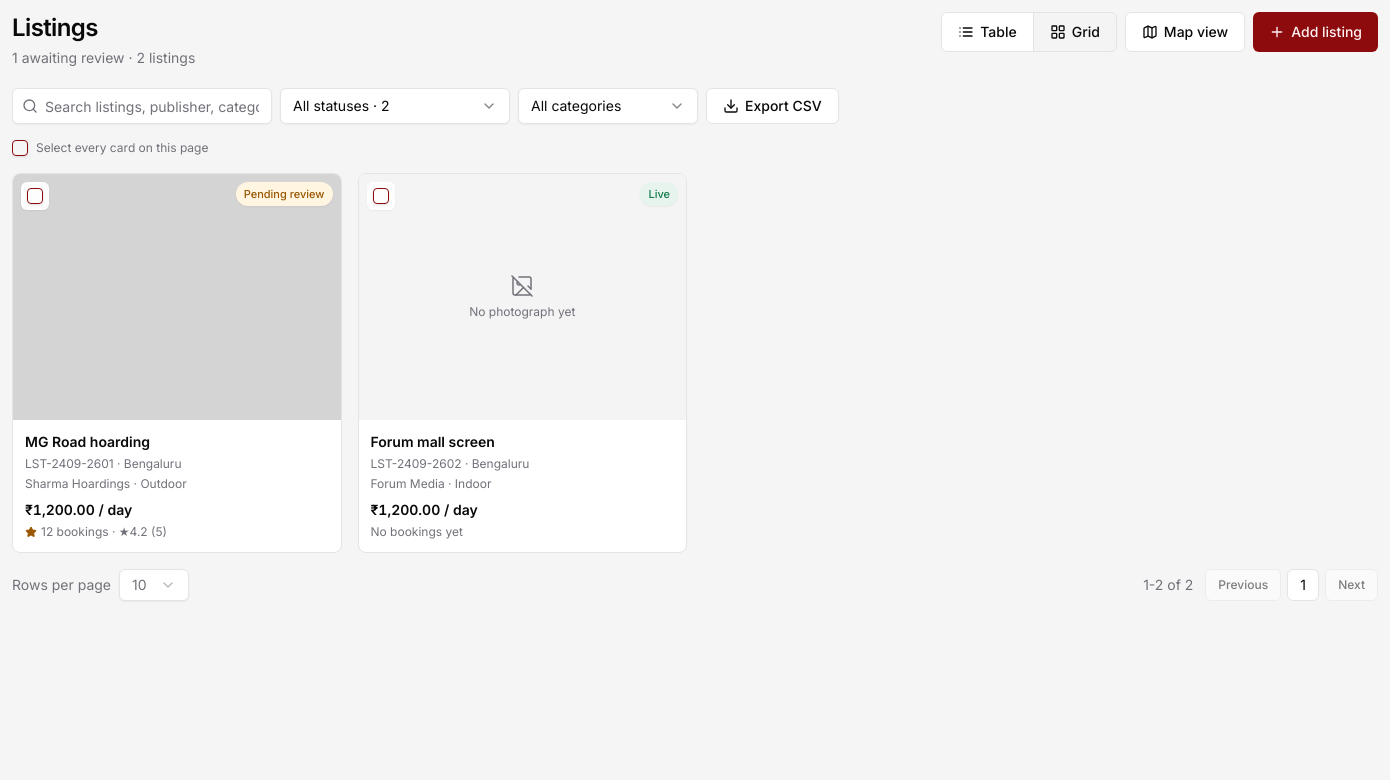
Test: a card › is narrowed by the same search
The image size is (1390, 780).
Type "forum" into the field with placeholder "Search listings, publisher, category" at (142, 106), box [12,88,272,124]
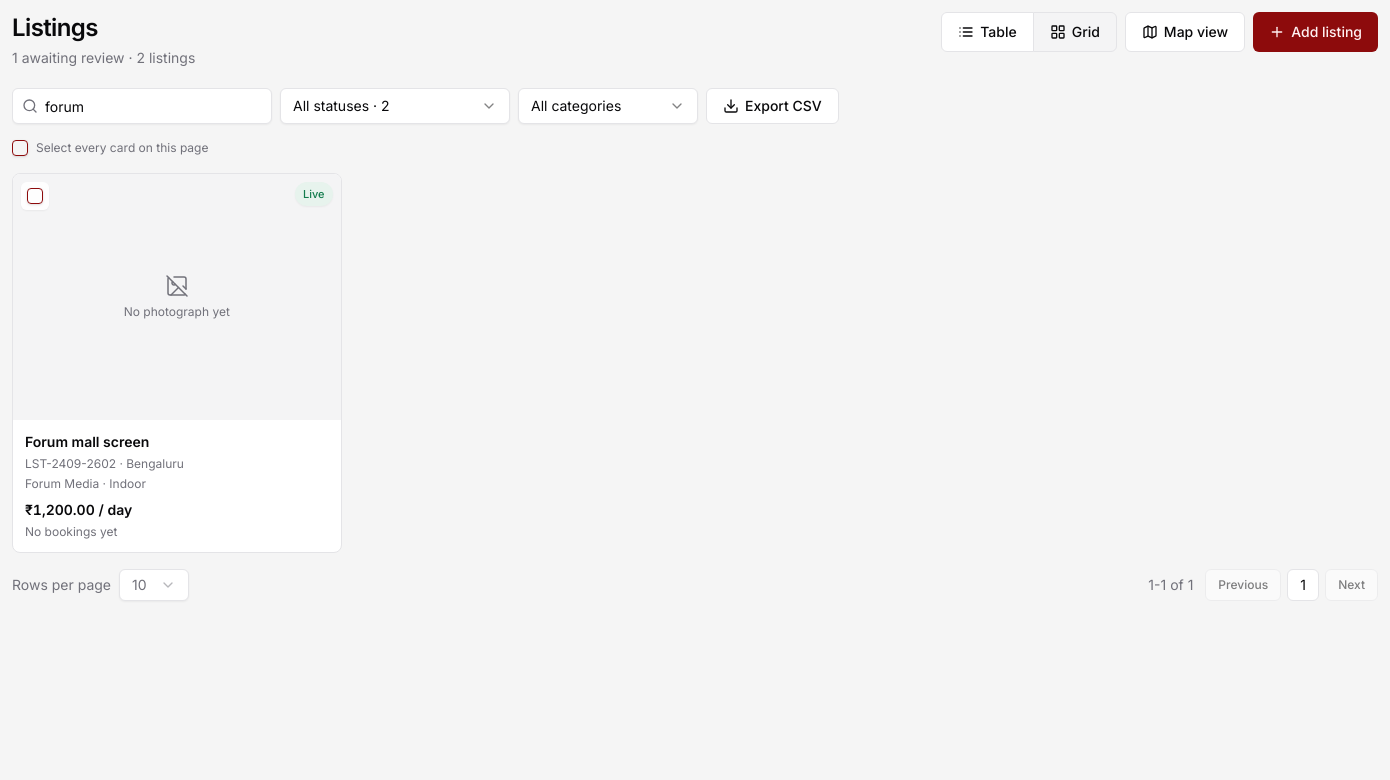
Expected: the element "Forum mall screen" is shown, [13,174,340,552]
Expected: the heading "MG Road hoarding" is gone
